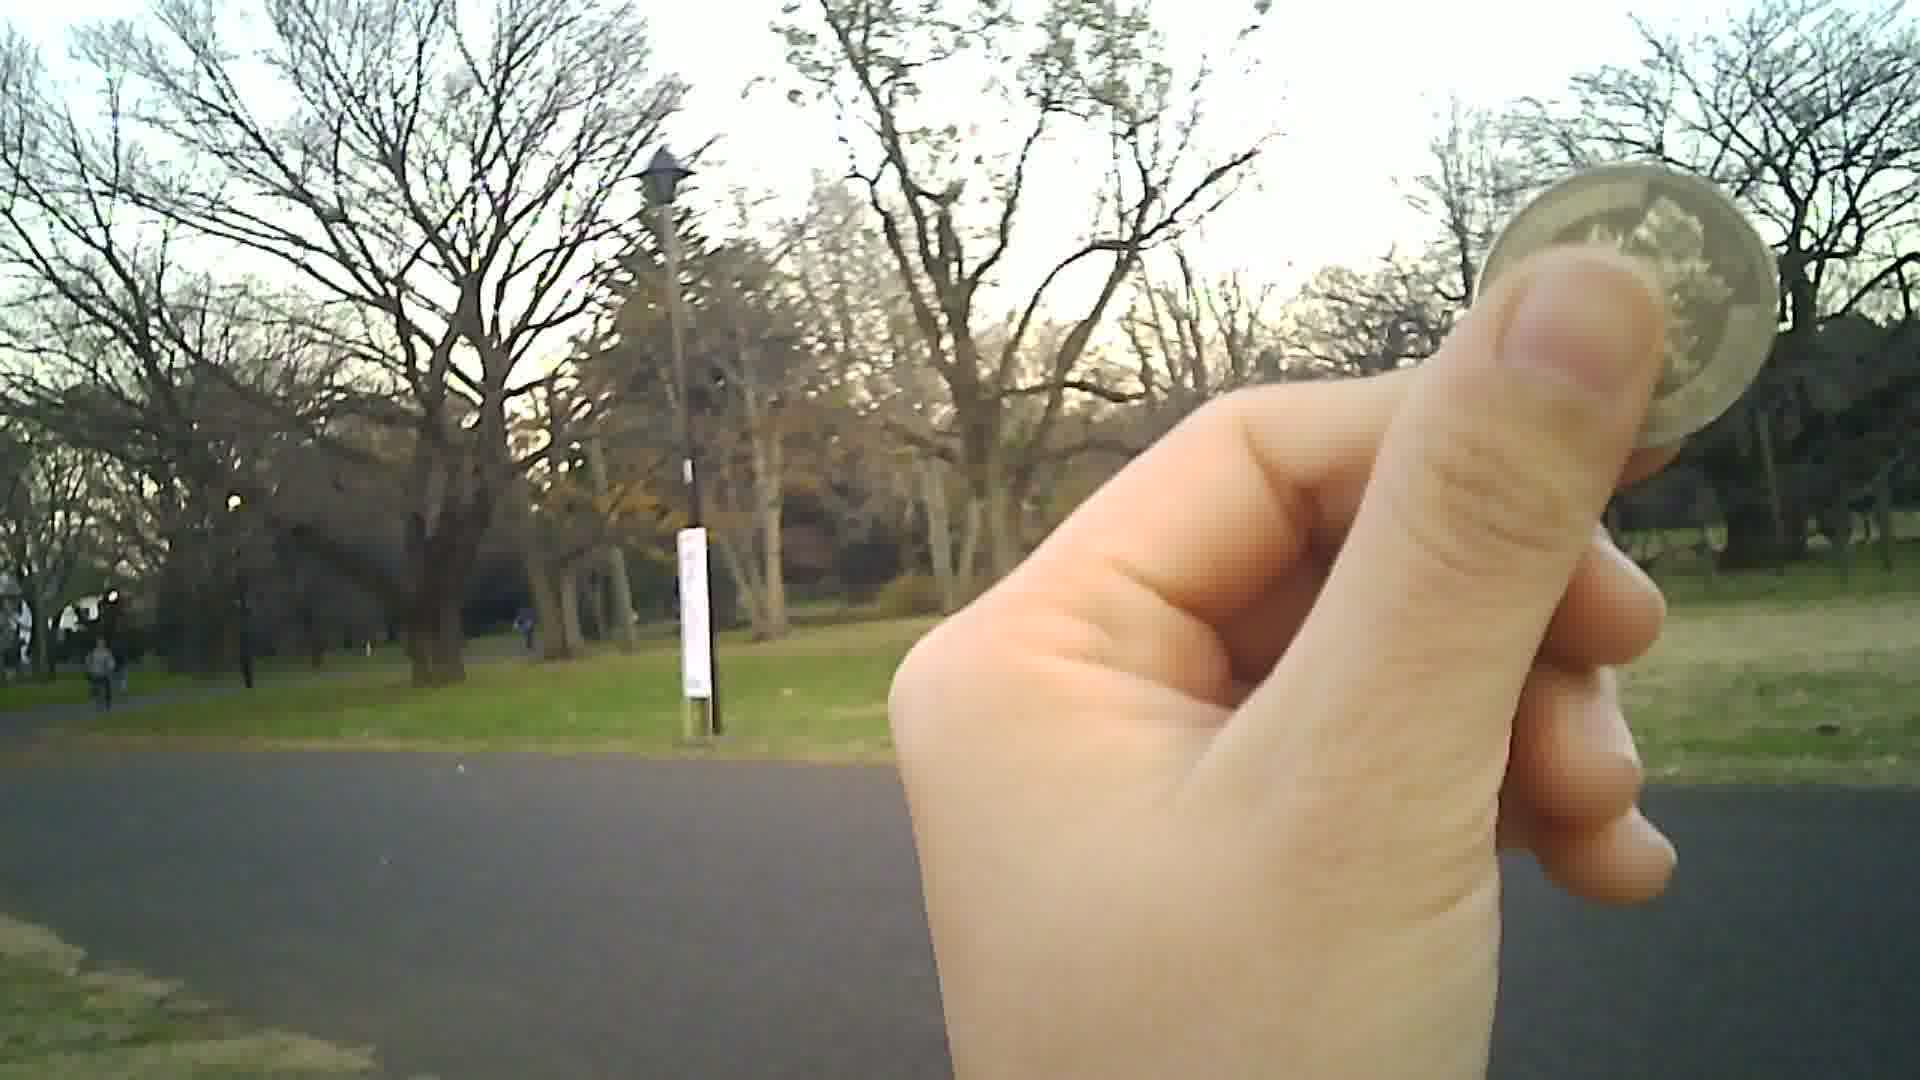500 Yen: (1476, 158, 1789, 459)
